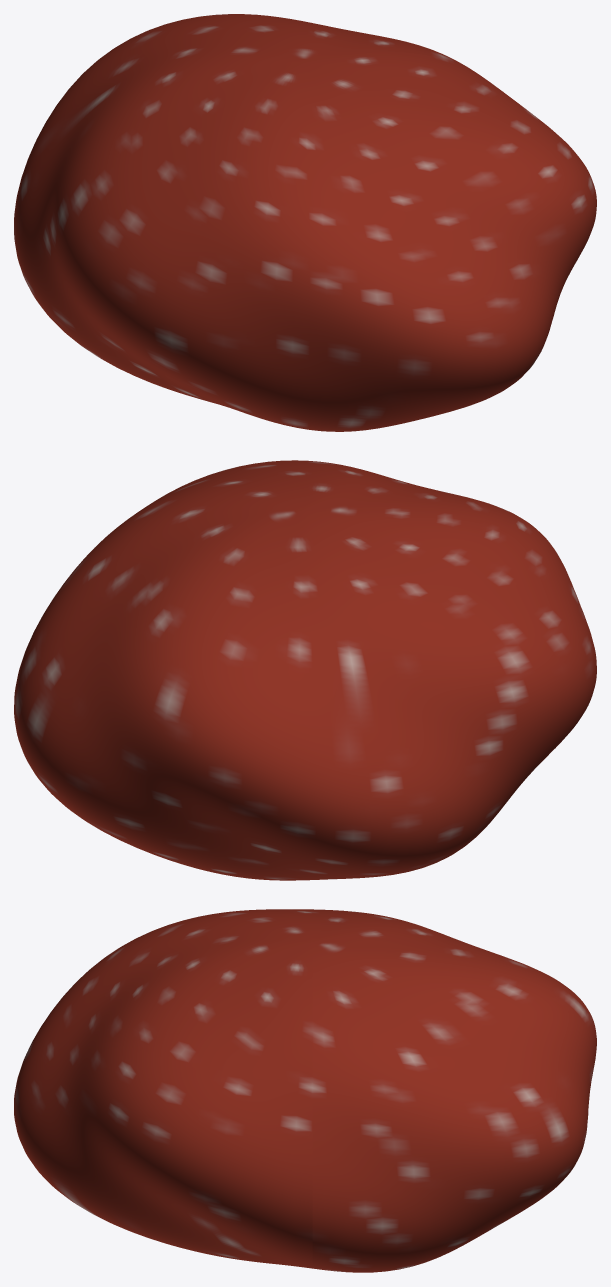
Rendered from red-jasper.glb.
The picture shows the model from 3 angles, top to bottom: view 1: azimuth 30°, elevation 25°; view 2: azimuth 150°, elevation 25°; view 3: azimuth 270°, elevation 25°; orthographic projection. The views are drawn at different scales.
Parts seen in each view (by area): view 1: red-jasper; view 2: red-jasper; view 3: red-jasper.
Boxes of the visible parts, x1,y1,x2,y2 form: red-jasper: [14, 14, 596, 431]; red-jasper: [14, 460, 596, 880]; red-jasper: [14, 909, 596, 1272].
Size of the model in its own units: 2.18 by 1.39 by 2.5.
